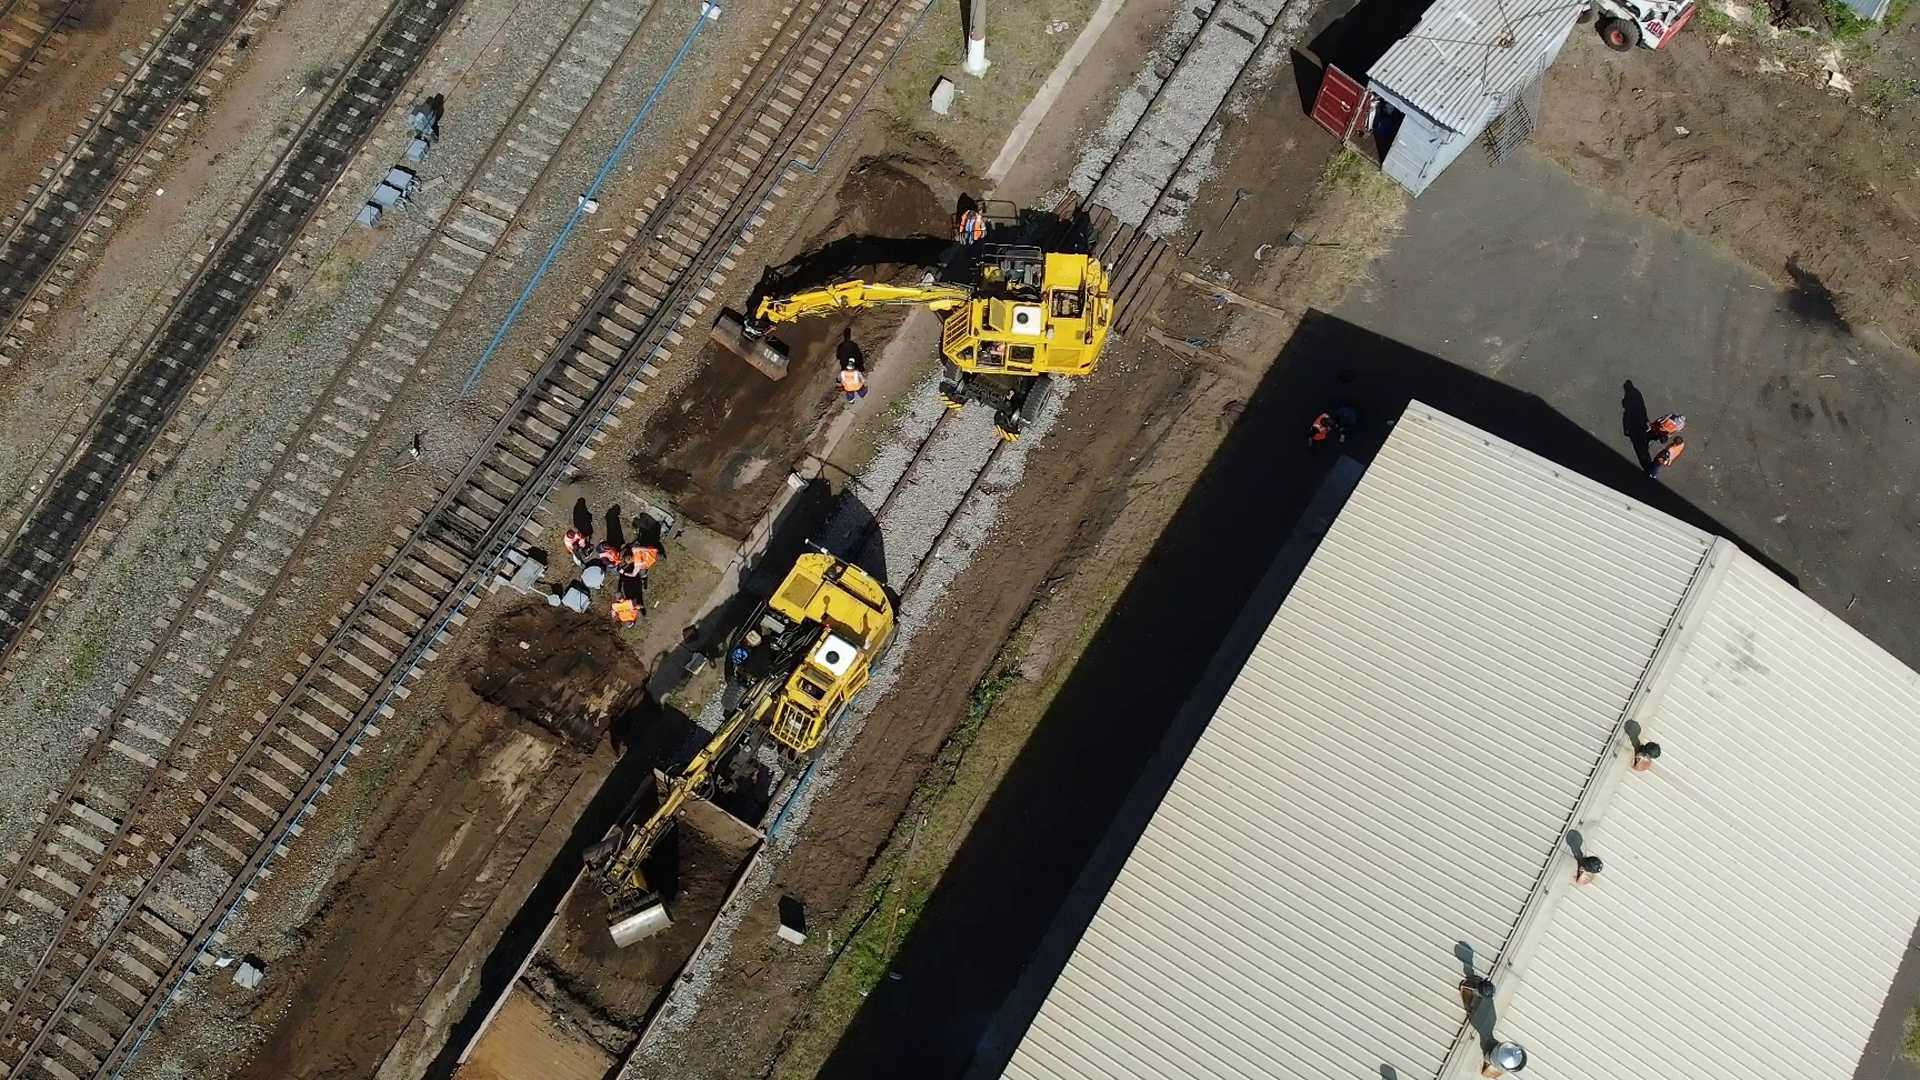kjtv: (679, 547, 893, 800), (851, 240, 1114, 421)
